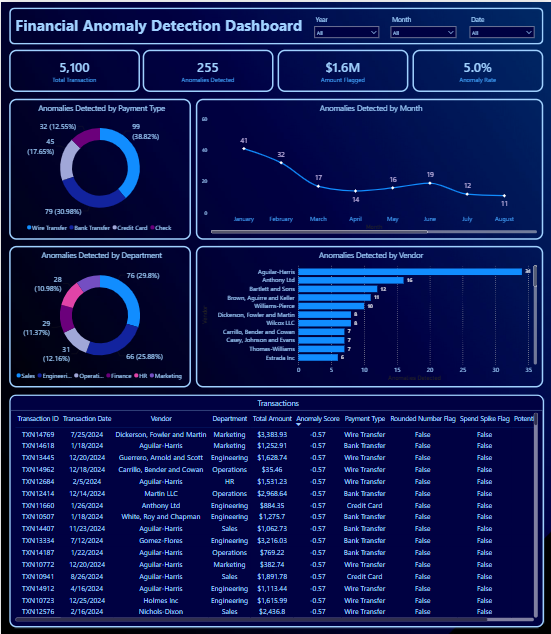

This screenshot's page, from the dashboard's own definition file:
{"tool":"powerbi","page":{"name":"Financial Anomaly Summary","canvas":[1350,1550],"ordinal":0},"visuals":[{"type":"cardVisual","fields":{"Data":["Measures_.total_transaction"]},"box":[25,117.9,320,103.3],"z":0},{"type":"cardVisual","fields":{"Data":["Measures_.anomalies_detected"]},"box":[354.4,117.9,320,103.3],"z":1000},{"type":"cardVisual","fields":{"Data":["Measures_.amount_flagged"]},"box":[683.9,117.9,320,103.3],"z":2000},{"type":"cardVisual","fields":{"Data":["Measures_.Anomaly Rate"]},"box":[1013.3,117.9,320,103.3],"z":3000},{"type":"clusteredBarChart","fields":{"Category":["final_anomaly_results.vendor"],"Y":["Measures_.anomalies_detected"]},"box":[483.3,598.3,850,346.7],"z":4000},{"type":"lineChart","title":"Anomalies Detected by Month","fields":{"Y":["Measures_.anomalies_detected"],"Category":["final_anomaly_results.transaction_date.Variation.Date Hierarchy.Year","final_anomaly_results.transaction_date.Variation.Date Hierarchy.Quarter","final_anomaly_results.transaction_date.Variation.Date Hierarchy.Month","final_anomaly_results.transaction_date.Variation.Date Hierarchy.Day"]},"box":[483.3,236.7,850,345],"z":5000},{"type":"donutChart","title":"Anomalies Detected by Payment Type","fields":{"Y":["Measures_.anomalies_detected"],"Category":["final_anomaly_results.payment_type"]},"box":[25,236.7,445,345],"z":6000},{"type":"donutChart","fields":{"Y":["Measures_.anomalies_detected"],"Category":["final_anomaly_results.department"]},"box":[25,598.3,445,346.7],"z":7000},{"type":"tableEx","title":"Transactions","fields":{"Values":["final_anomaly_results.transaction_id","final_anomaly_results.transaction_date","final_anomaly_results.vendor","final_anomaly_results.department","Sum(final_anomaly_results.amount)","Sum(final_anomaly_results.anomaly_score)","final_anomaly_results.payment_type","final_anomaly_results.is_round_number_flag","final_anomaly_results.is_spend_spike_flag","final_anomaly_results.is_potential_duplicate_flag"]},"box":[25,961.7,1308.3,570],"z":8000},{"type":"shape","box":[25.5,14.5,1307.3,90.9],"z":10000},{"type":"textbox","box":[36.4,28,714.5,67.3],"z":10001},{"type":"slicer","fields":{"Values":["final_anomaly_results.transaction_date"]},"box":[1141.8,28,178.2,67.3],"z":10002},{"type":"slicer","fields":{"Values":["final_anomaly_results.transaction_year"]},"box":[761.8,27,178.2,69.1],"z":10003},{"type":"slicer","fields":{"Values":["final_anomaly_results.transaction_date.Variation.Date Hierarchy.Month"]},"box":[950.9,26.1,180,70.9],"z":10004}]}

Visuals, with their boxes in screenshot pixels (x1, y1, x2, y2), scaled from the page's 1350x1550 canvas onto the 551x634 screenshot:
cardVisual - Measures_.total_transaction: select_region(10, 48, 141, 90)
cardVisual - Measures_.anomalies_detected: select_region(145, 48, 275, 90)
cardVisual - Measures_.amount_flagged: select_region(279, 48, 410, 90)
cardVisual - Measures_.Anomaly Rate: select_region(414, 48, 544, 90)
clusteredBarChart - final_anomaly_results.vendor x Measures_.anomalies_detected: select_region(197, 245, 544, 387)
"Anomalies Detected by Month" lineChart: select_region(197, 97, 544, 238)
"Anomalies Detected by Payment Type" donutChart: select_region(10, 97, 192, 238)
donutChart - Measures_.anomalies_detected x final_anomaly_results.department: select_region(10, 245, 192, 387)
"Transactions" tableEx: select_region(10, 393, 544, 627)
shape: select_region(10, 6, 544, 43)
textbox: select_region(15, 11, 306, 39)
slicer - final_anomaly_results.transaction_date: select_region(466, 11, 539, 39)
slicer - final_anomaly_results.transaction_year: select_region(311, 11, 384, 39)
slicer - final_anomaly_results.transaction_date.Variation.Date Hierarchy.Month: select_region(388, 11, 462, 40)
